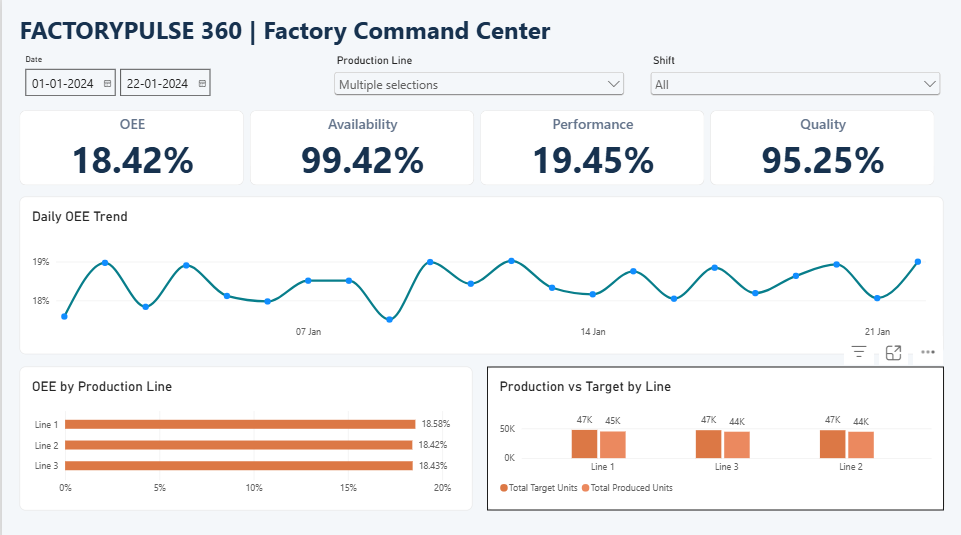

The page's visual inventory and layout, read from the dashboard file:
{"tool":"powerbi","page":{"name":"Factory Command Center","canvas":[1280,720],"ordinal":0},"visuals":[{"type":"cardVisual","fields":{"Data":["_Measures.OEE Pct","_Measures.Availability Pct","_Measures.Performance Pct","_Measures.Quality Pct"]},"box":[24,148,1223,100],"z":0},{"type":"slicer","fields":{"Values":["DimDate.Date"]},"box":[24,74,396,60],"z":1000},{"type":"slicer","fields":{"Values":["DimLine.LineName"]},"box":[437.7,74.1,396,60],"z":2000},{"type":"slicer","fields":{"Values":["DimShift.ShiftName"]},"box":[860.4,74.1,396,60],"z":3000},{"type":"lineChart","title":"Daily OEE Trend","fields":{"Category":["DimDate.Date"],"Y":["_Measures.OEE Pct"]},"box":[24,264,1232,210],"z":4000},{"type":"clusteredBarChart","title":"OEE by Production Line","fields":{"Category":["DimLine.LineName"],"Y":["_Measures.OEE Pct"]},"box":[24,490,604,192],"z":5000},{"type":"clusteredColumnChart","title":"Production vs Target by Line","fields":{"Category":["DimLine.LineName"],"Y":["_Measures.Total Target Units","_Measures.Total Produced Units"]},"box":[646,490,610,192],"z":6000},{"type":"textbox","box":[23.3,0,1233.6,64.5],"z":7000}]}

Visuals, with their boxes in screenshot pixels (x1, y1, x2, y2), scaled from the page's 1280x720 canvas onto the 961x535 screenshot:
cardVisual - _Measures.OEE Pct x _Measures.Availability Pct: bbox=[18, 110, 936, 184]
slicer - DimDate.Date: bbox=[18, 55, 315, 100]
slicer - DimLine.LineName: bbox=[329, 55, 626, 100]
slicer - DimShift.ShiftName: bbox=[646, 55, 943, 100]
"Daily OEE Trend" lineChart: bbox=[18, 196, 943, 352]
"OEE by Production Line" clusteredBarChart: bbox=[18, 364, 471, 507]
"Production vs Target by Line" clusteredColumnChart: bbox=[485, 364, 943, 507]
textbox: bbox=[17, 0, 944, 48]
